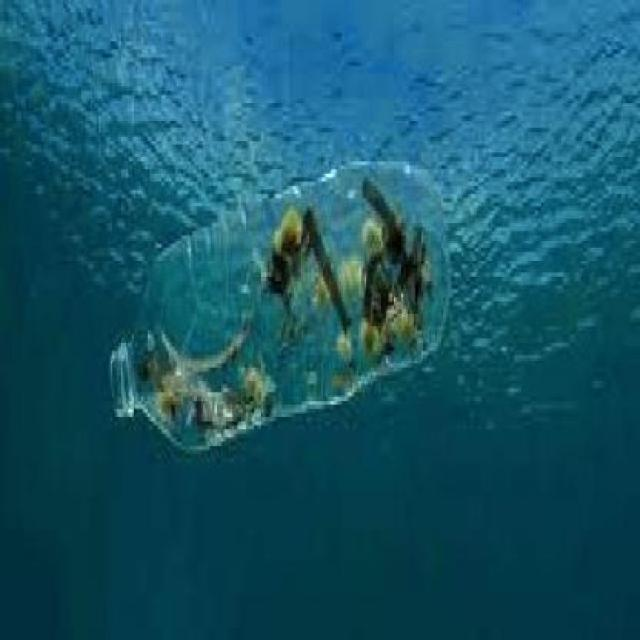pbottle: (102, 140, 455, 458)
